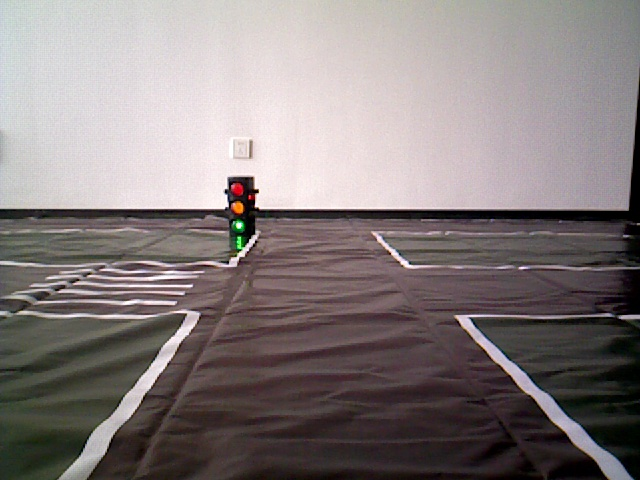green: (229, 176, 253, 228)
